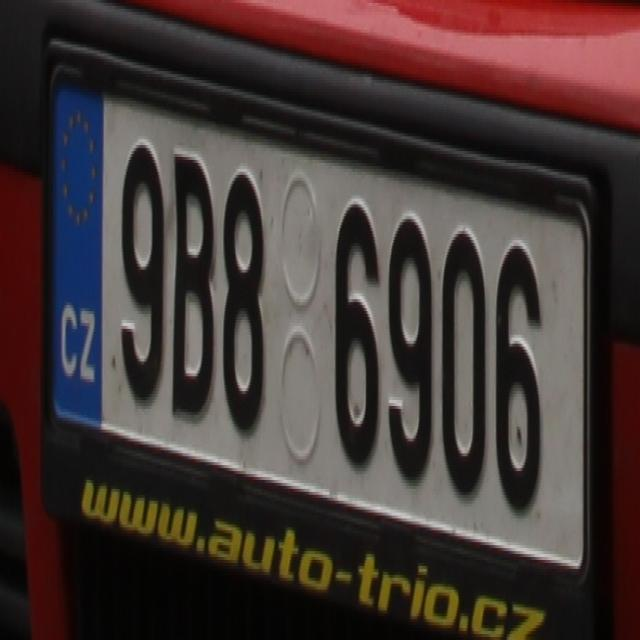0: (438, 225, 488, 513)
6: (334, 195, 382, 480), (494, 246, 542, 504)
8: (220, 166, 266, 430)
9: (388, 216, 436, 483), (118, 127, 162, 409)
B: (169, 136, 214, 430)
